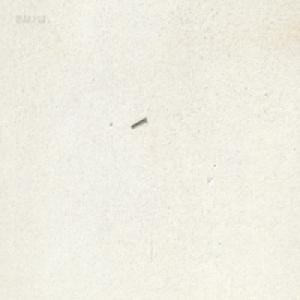Bolt: (129, 115, 146, 128)
